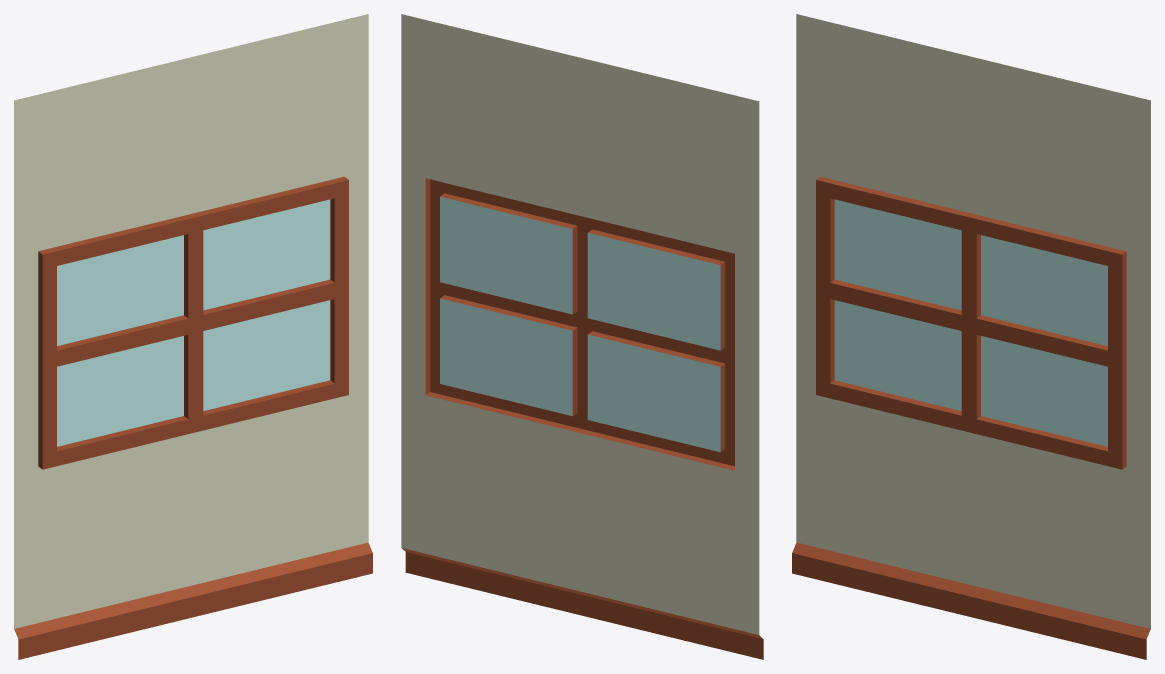
The model's file is Wall1.fbx.
3 views of the same model, side by side, from view 1: azimuth 30°, elevation 25°; view 2: azimuth 150°, elevation 25°; view 3: azimuth 330°, elevation 25° (orthographic).
Visible parts, largest first — view 1: 平面; view 2: 平面; view 3: 平面.
Part boxes in pixels (bbox=[...]): 平面: bbox=[14, 14, 372, 659]; 平面: bbox=[401, 14, 763, 659]; 平面: bbox=[792, 14, 1150, 659].
Bounding box in the file's own units: 2 × 3 × 0.0448.
